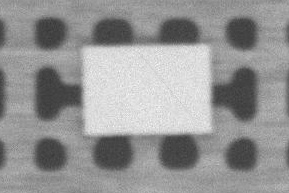DIE_CRACK: (207, 35, 289, 83)
